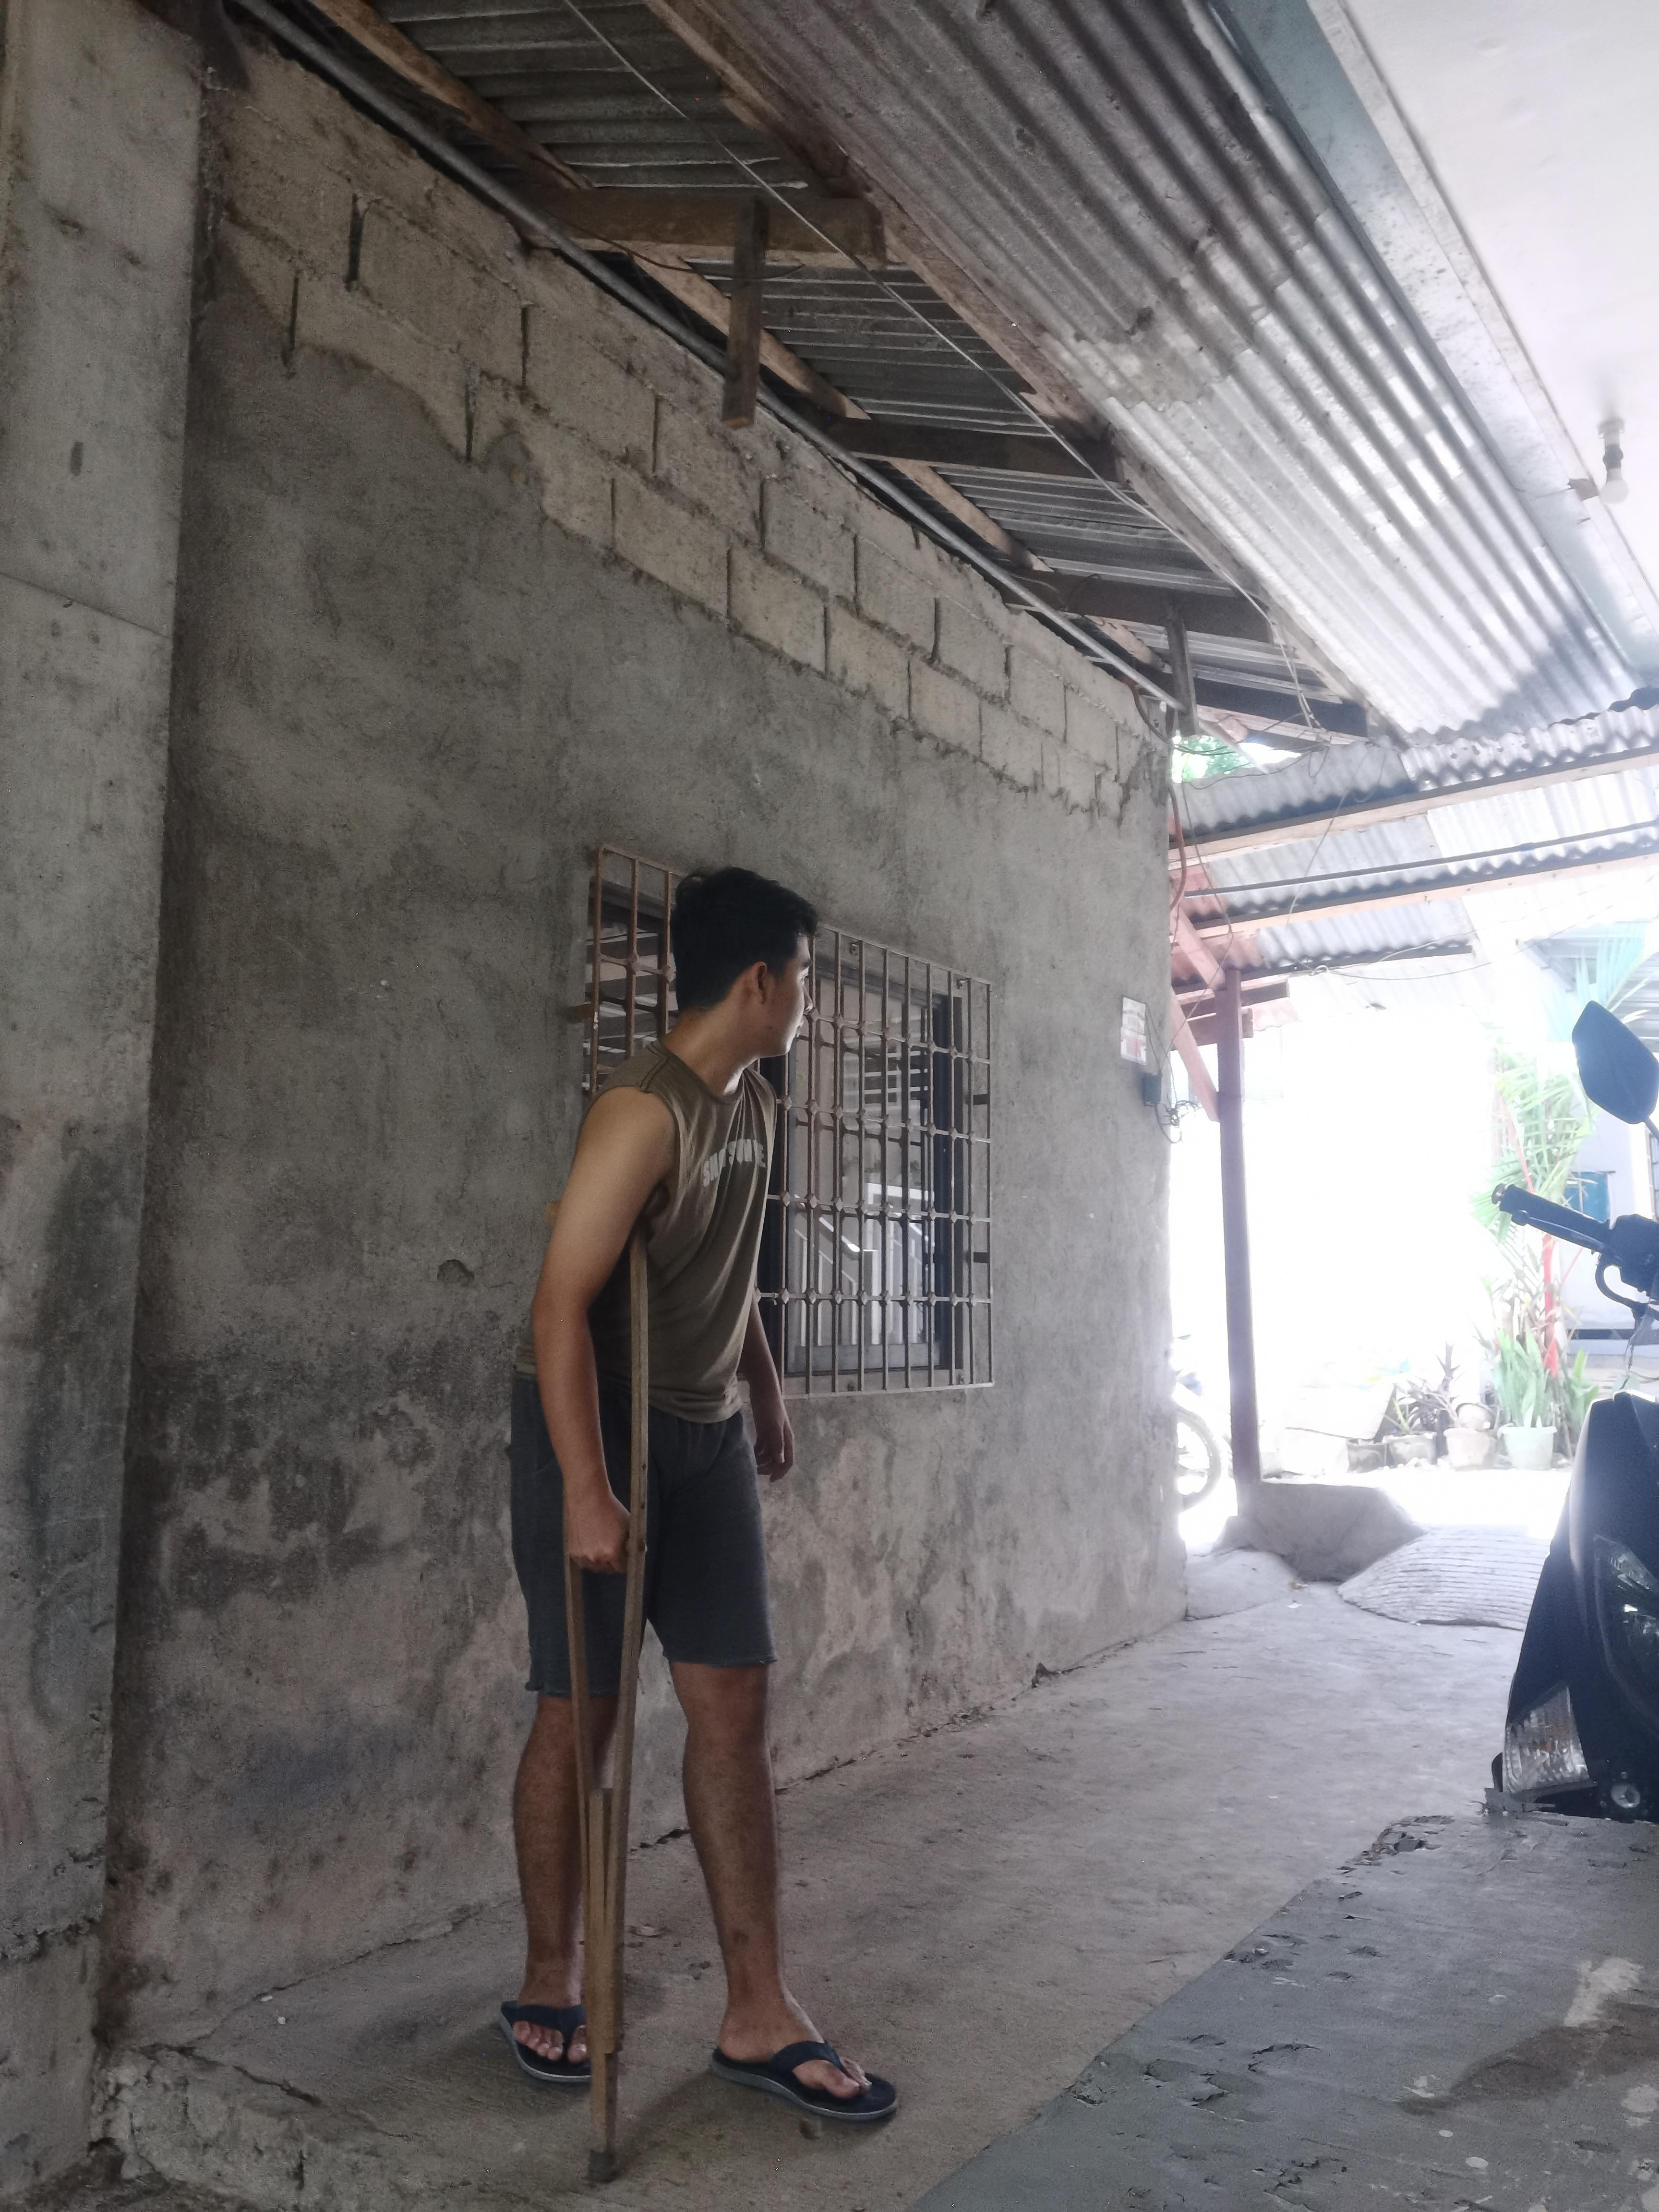crutches: (495, 846, 917, 2212)
